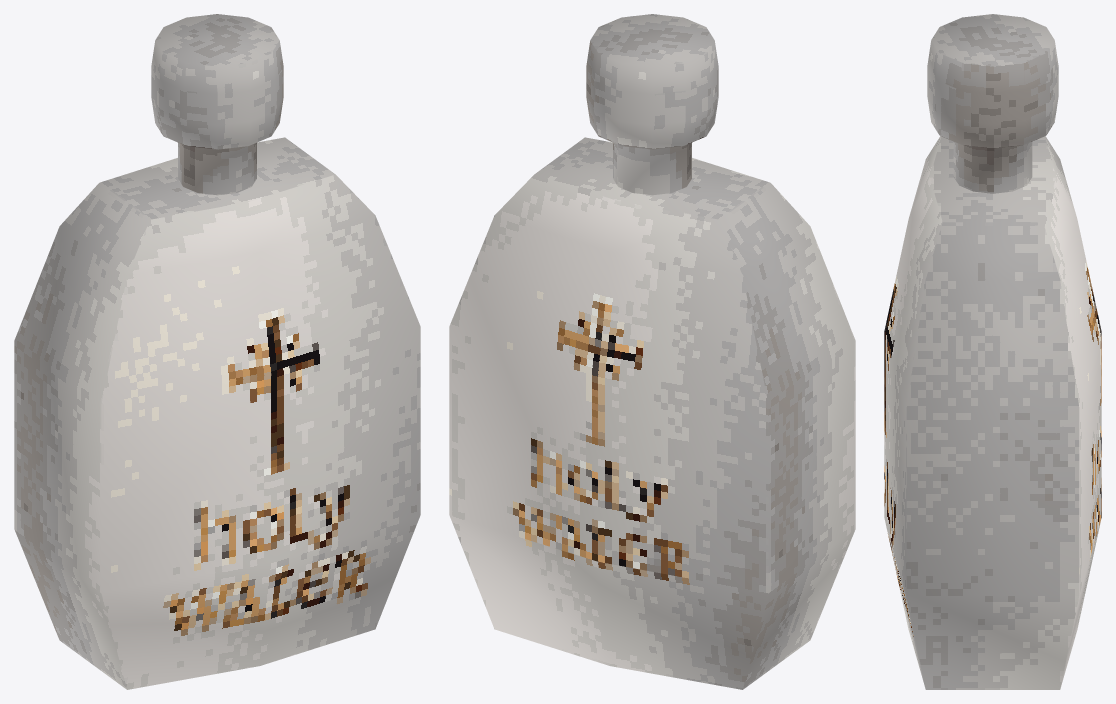
File: Holy_Water.gltf
3 views of the same model, side by side, from view 1: azimuth 30°, elevation 25°; view 2: azimuth 150°, elevation 25°; view 3: azimuth 270°, elevation 25° (orthographic).
Parts seen in each view (by area): view 1: Holy_Water; view 2: Holy_Water; view 3: Holy_Water.
Boxes of the visible parts, x1=… form: Holy_Water: x1=14, y1=14, x2=420, y2=689; Holy_Water: x1=449, y1=14, x2=855, y2=689; Holy_Water: x1=884, y1=14, x2=1101, y2=689.
Bounding box in the file's own units: 0.771 × 1.37 × 0.4579.
Materials: 1 (1 with a texture image).
